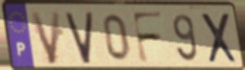0: (101, 12, 133, 64)
9: (171, 13, 199, 64)
F: (130, 10, 165, 65)
V: (28, 10, 62, 68), (63, 10, 95, 67)
X: (198, 11, 240, 65)
